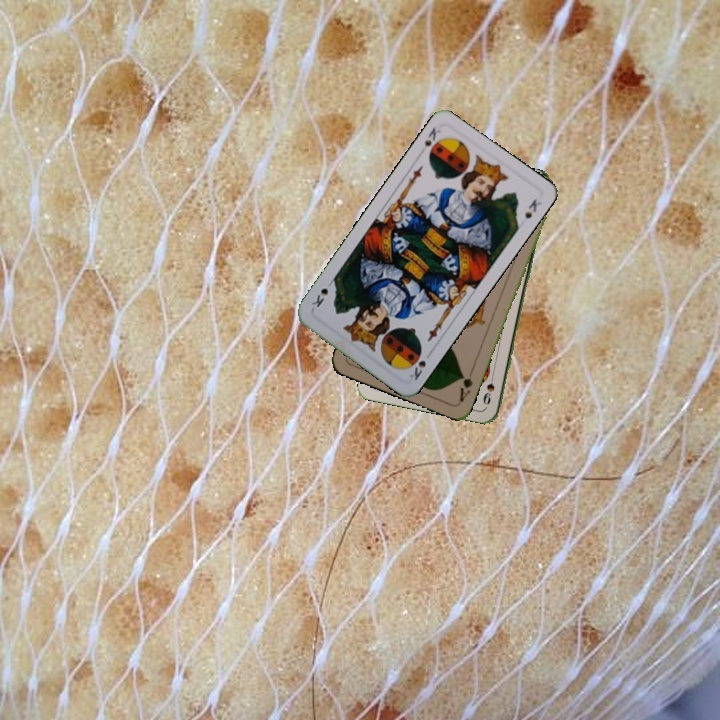GA: (455, 365, 476, 405)
S9: (480, 368, 497, 407)
SK: (415, 123, 444, 160), (405, 347, 429, 383)
